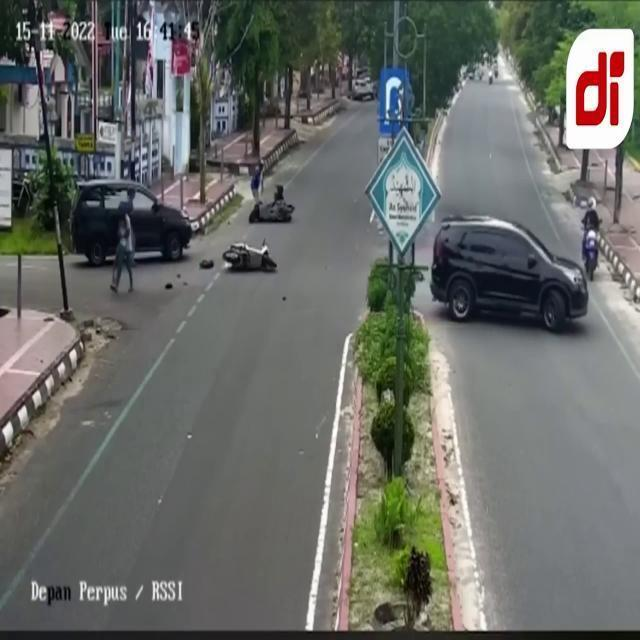accident: (222, 201, 294, 273), (223, 242, 277, 272), (250, 202, 294, 222)
